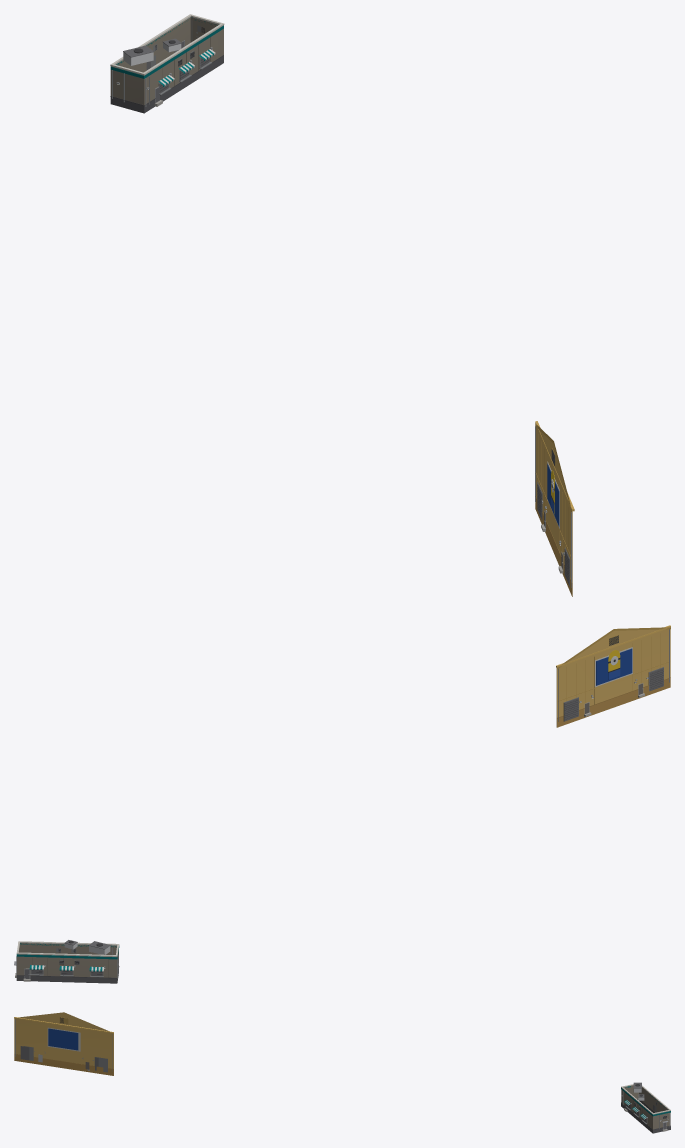
File: production-fillers.glb
The picture shows the model from 3 angles, top to bottom: view 1: azimuth 30°, elevation 25°; view 2: azimuth 150°, elevation 25°; view 3: azimuth 270°, elevation 25°; orthographic projection. The views are drawn at different scales.
Parts seen in each view (by area): view 1: production-fillers-paint, production-fillers-concrete, production-fillers-metal; view 2: production-fillers-paint, production-fillers-concrete; view 3: production-fillers-paint, production-fillers-concrete, production-fillers-metal.
Boxes of the visible parts, x1,y1,x2,y2 form: production-fillers-paint: (110, 17, 572, 585); production-fillers-concrete: (110, 14, 574, 596); production-fillers-metal: (112, 20, 571, 587); production-fillers-paint: (16, 627, 670, 978); production-fillers-concrete: (15, 625, 670, 983); production-fillers-paint: (14, 1012, 670, 1129); production-fillers-concrete: (14, 1017, 670, 1133); production-fillers-metal: (15, 1019, 670, 1128).
Size of the model in its own units: 46.18 by 17.64 by 181.
